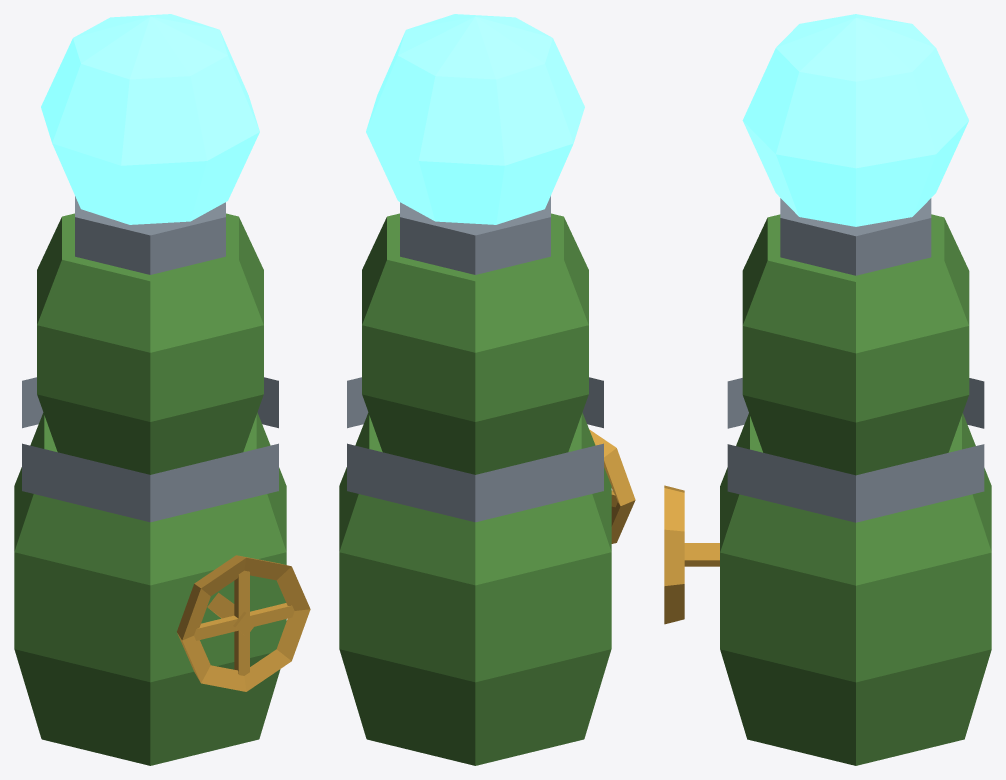
Rendered from Veg_CactusBio_B.fbx.
3 views of the same model, side by side, from view 1: azimuth 30°, elevation 25°; view 2: azimuth 150°, elevation 25°; view 3: azimuth 270°, elevation 25° (orthographic).
Visible parts, largest first — view 1: Veg_CactusBio_B; view 2: Veg_CactusBio_B; view 3: Veg_CactusBio_B.
Boxes of the visible parts, left/top/right/bottom form: Veg_CactusBio_B: left=14, top=14, right=310, bottom=765; Veg_CactusBio_B: left=339, top=14, right=635, bottom=765; Veg_CactusBio_B: left=664, top=14, right=991, bottom=765.
Bounding box in the file's own units: 0.72 × 1.76 × 0.7518.
